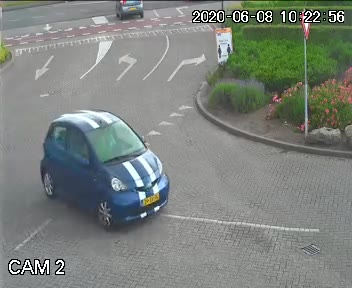car: (32, 98, 175, 233), (105, 0, 148, 28)
